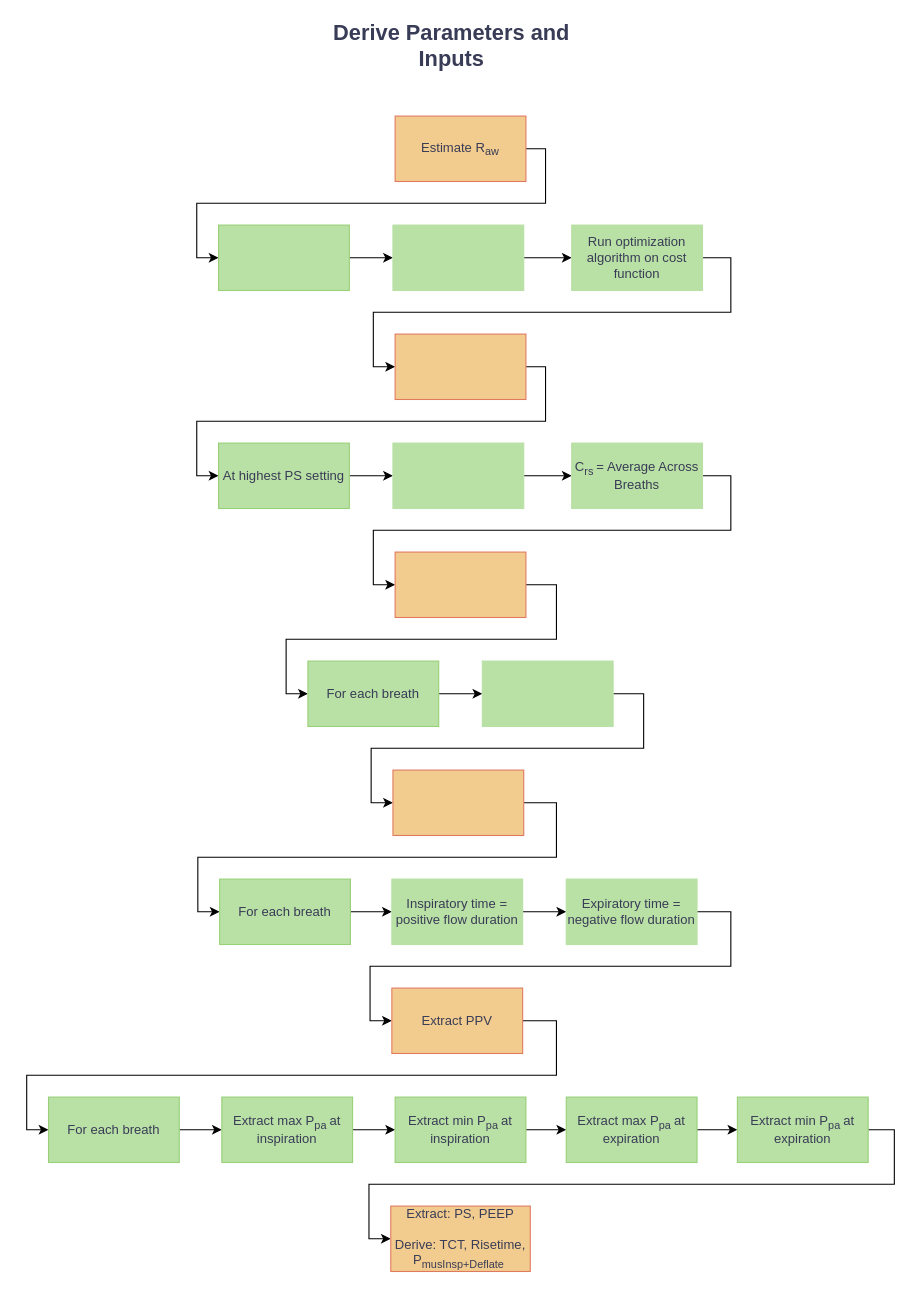
Image size: 922x1291. Some labels were removed from this diagram. The centre of each missing label's shape, as x and y in pixels:
Detect highest PS setting: the point at 283,257
Estimate C rs: the point at 460,366
Estimate P mus: the point at 460,584
Extract 5 patient breaths: the point at 458,257
Extract inspiratory- and expiratory time: the point at 458,802
For each breath C rs =ΔV/ΔP: the point at 458,475
P mus = (V t -V(max(P ao )))/C rs: the point at 547,693
